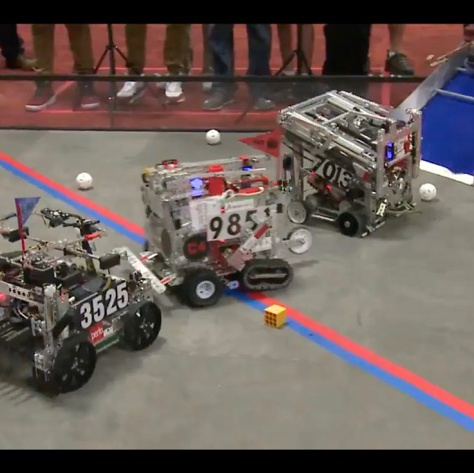robot: (0, 194, 164, 394), (137, 152, 297, 308), (271, 83, 427, 240)
